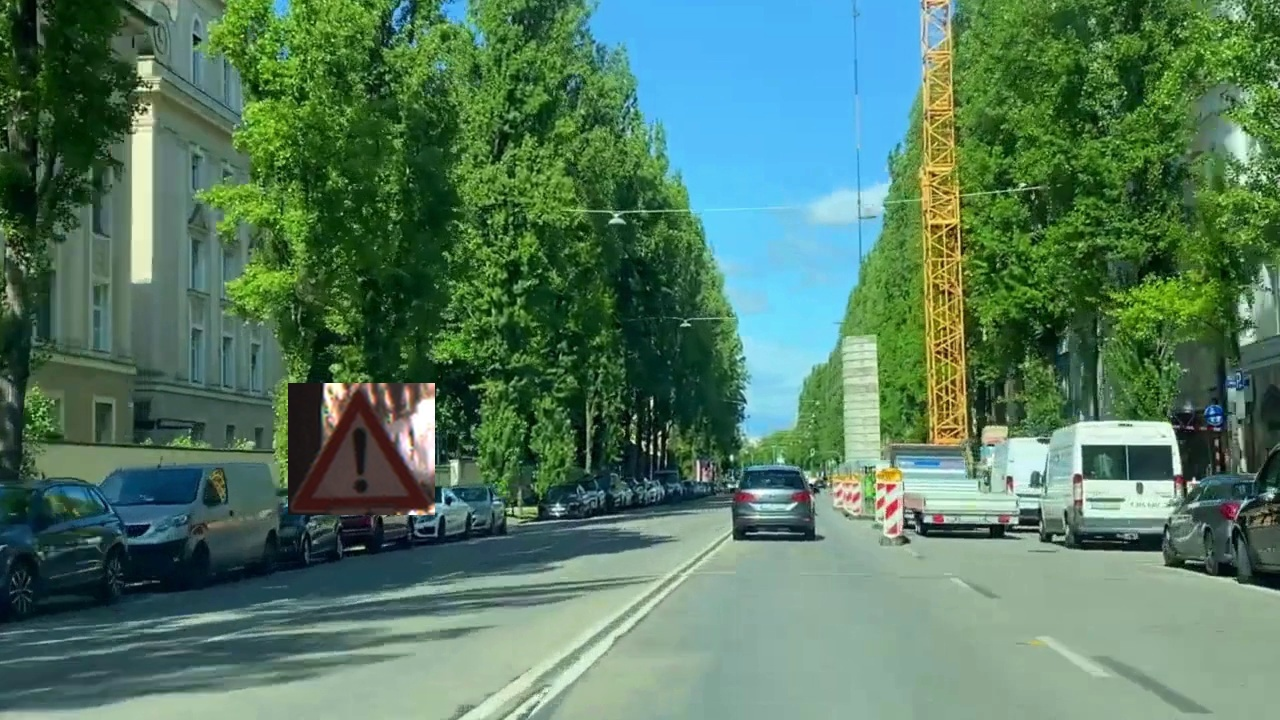Caution: (288, 383, 435, 515)
